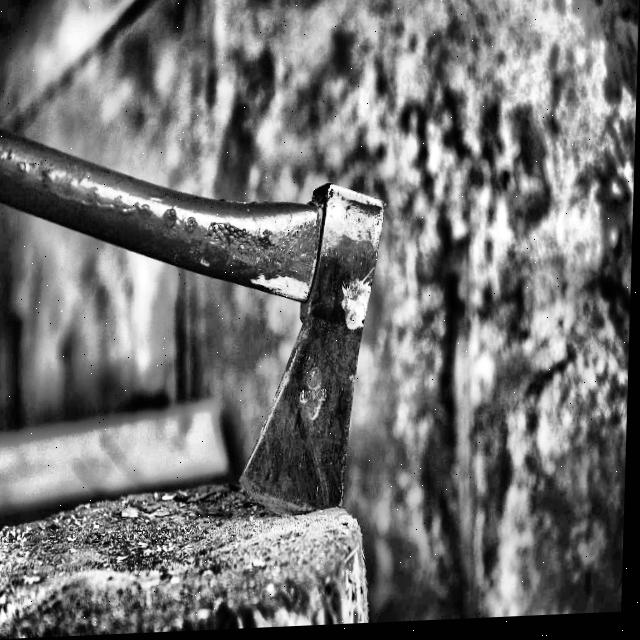kapak: (0, 127, 389, 518)
